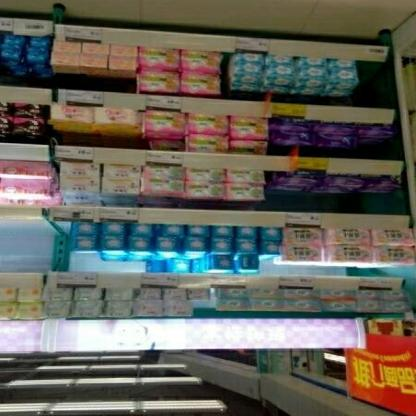empty_space: (7, 218, 43, 274), (358, 61, 391, 109), (51, 220, 72, 272), (0, 219, 6, 274)
